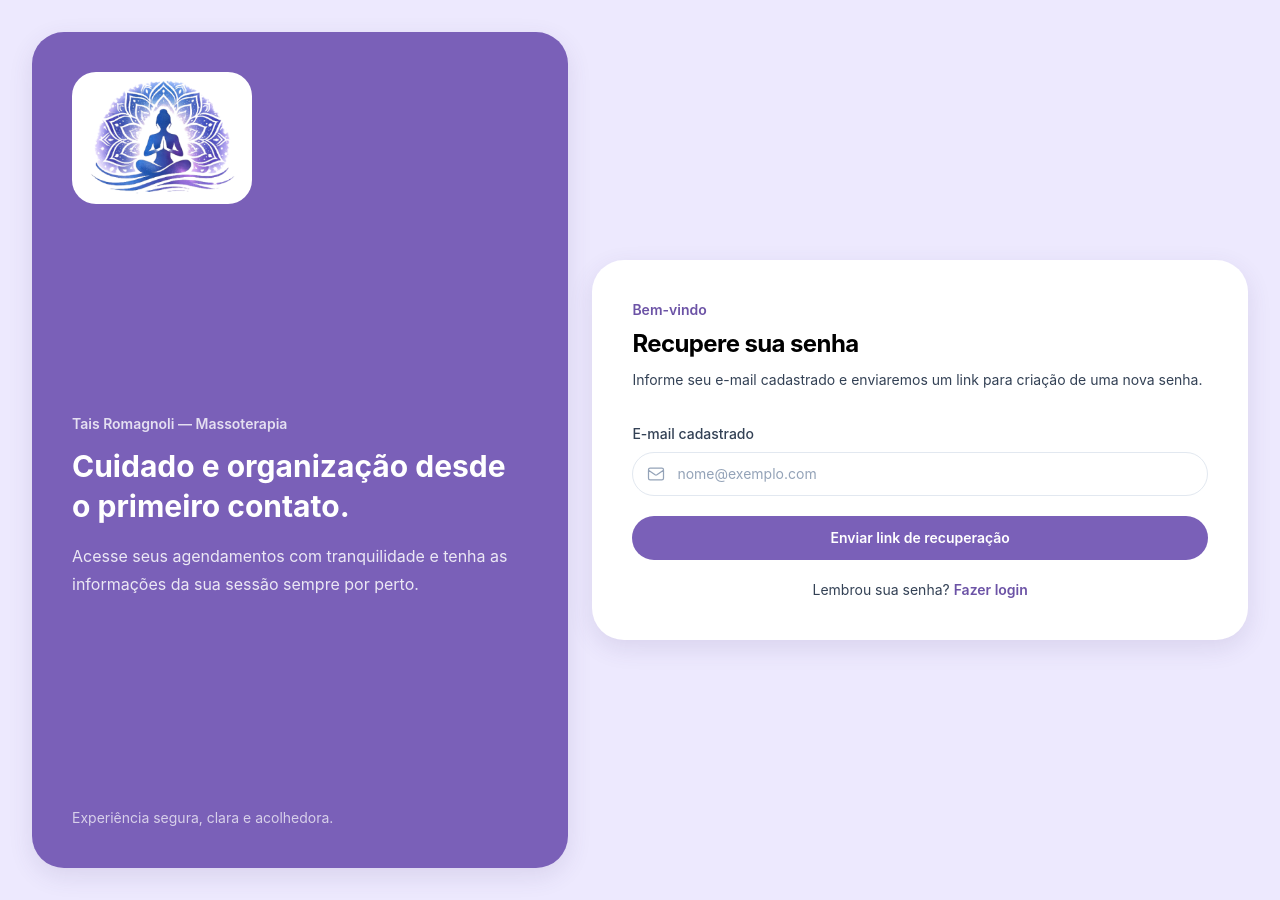
Test: ForgotPasswordPage › envia e-mail com sucesso e exibe mensagem de confirmacao com e-mail sanitizado
The image size is (1280, 900).
Type "  cliente@exemplo.com  " into the field labelled "E-mail cadastrado" at (920, 474), box [632,452,1208,496]
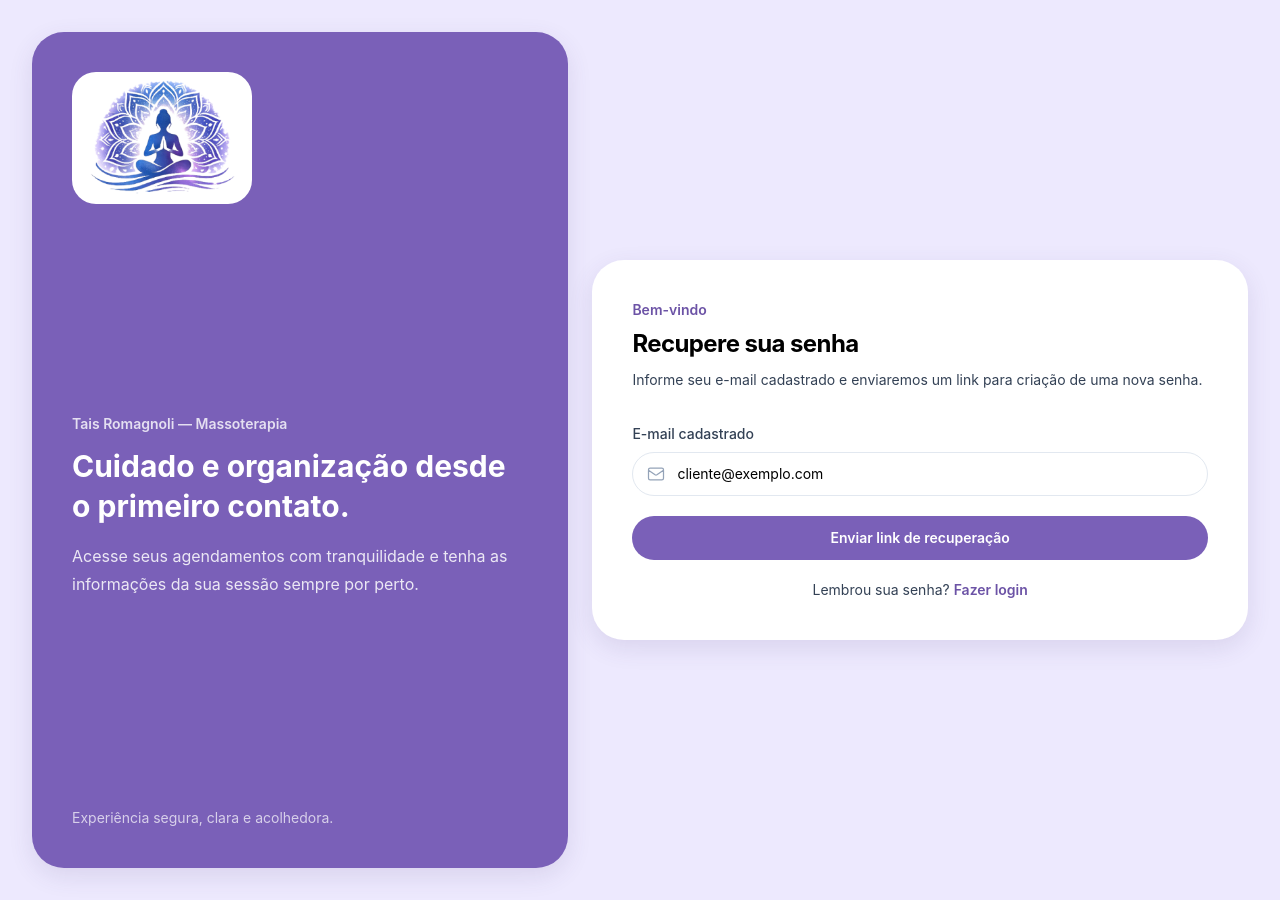
Click the button "Enviar link de recuperação" at (920, 538), box [632,516,1208,560]
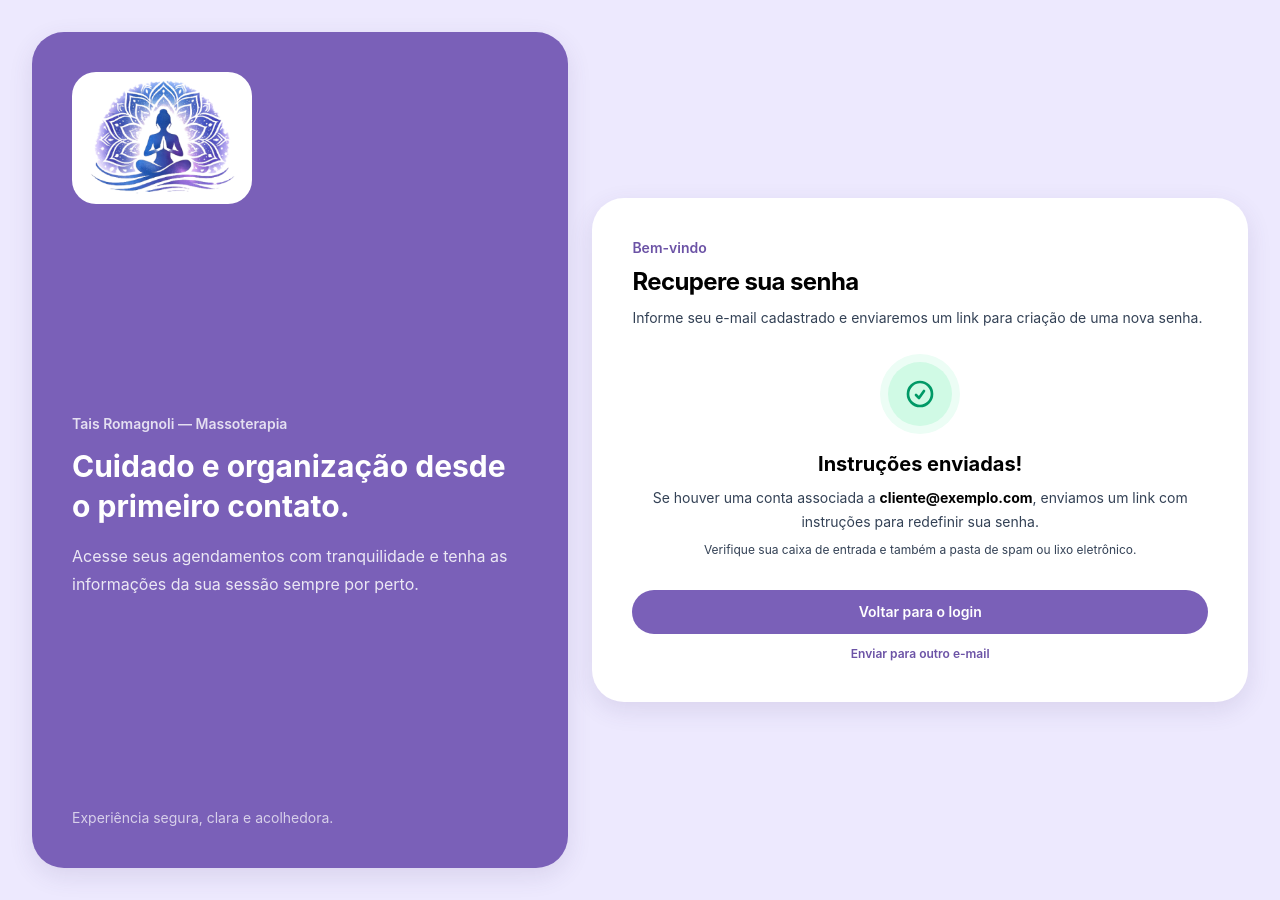
Result: the heading "Instruções enviadas!" is shown at [818,452,1022,476]
Result: the text "cliente@exemplo.com" is shown at [880,489,1032,506]
